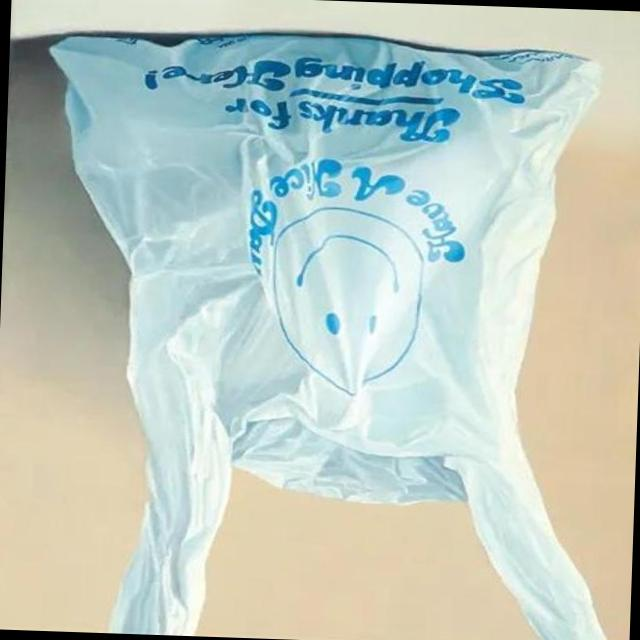KantongPlastik: (28, 24, 635, 640)
